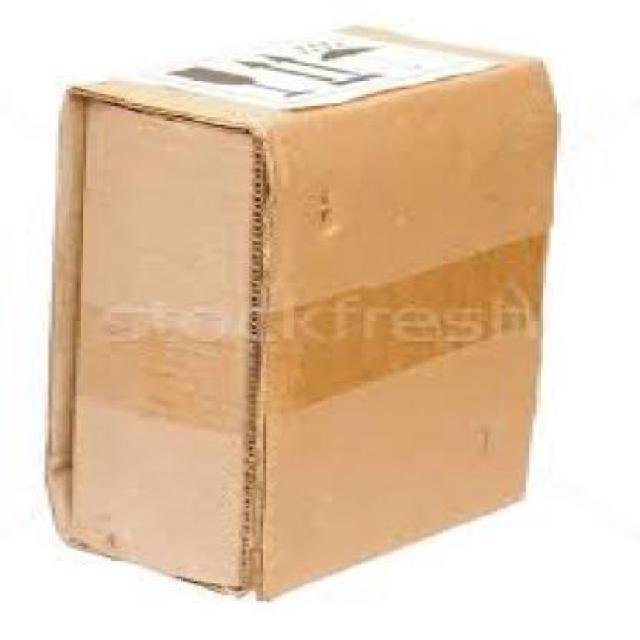box: (41, 23, 554, 595)
